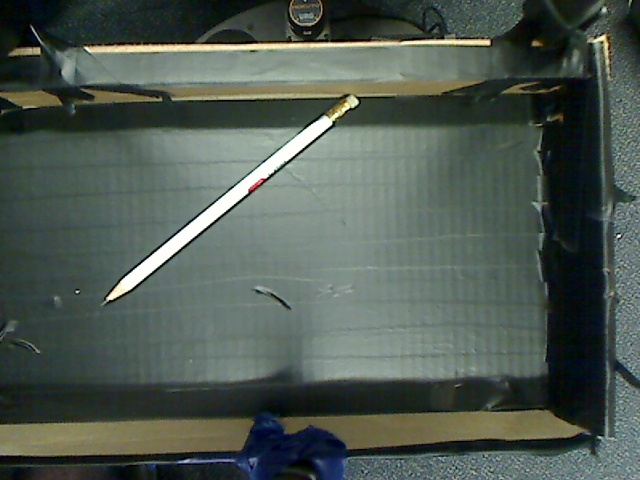pencil: (87, 91, 363, 313)
